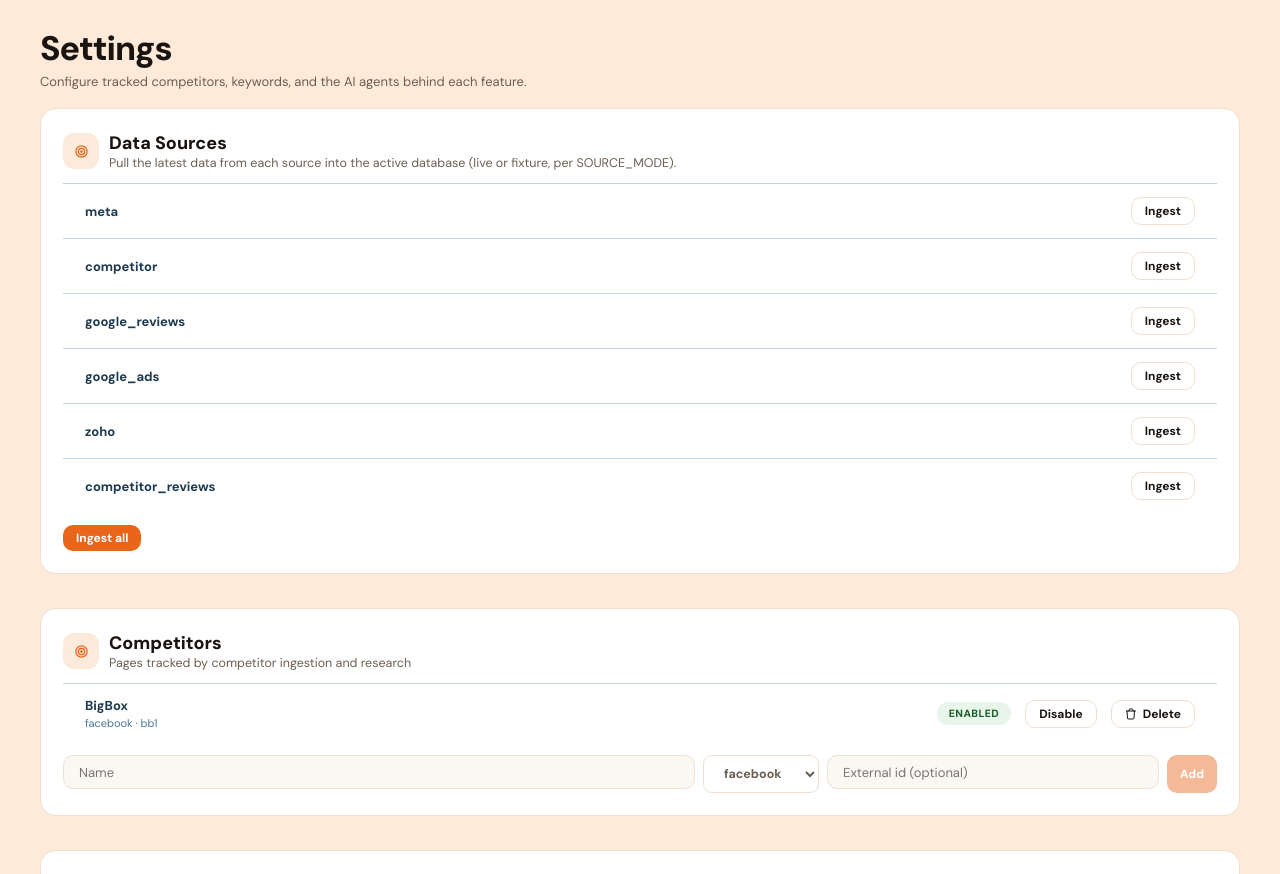
Scenario: shows skipped notice for a skip-reported source instead of counts
The width and height of the screenshot is (1280, 874).
Click the button "Ingest" in the row of "google_reviews".
click(1163, 321)  # box [1131,307,1195,335]
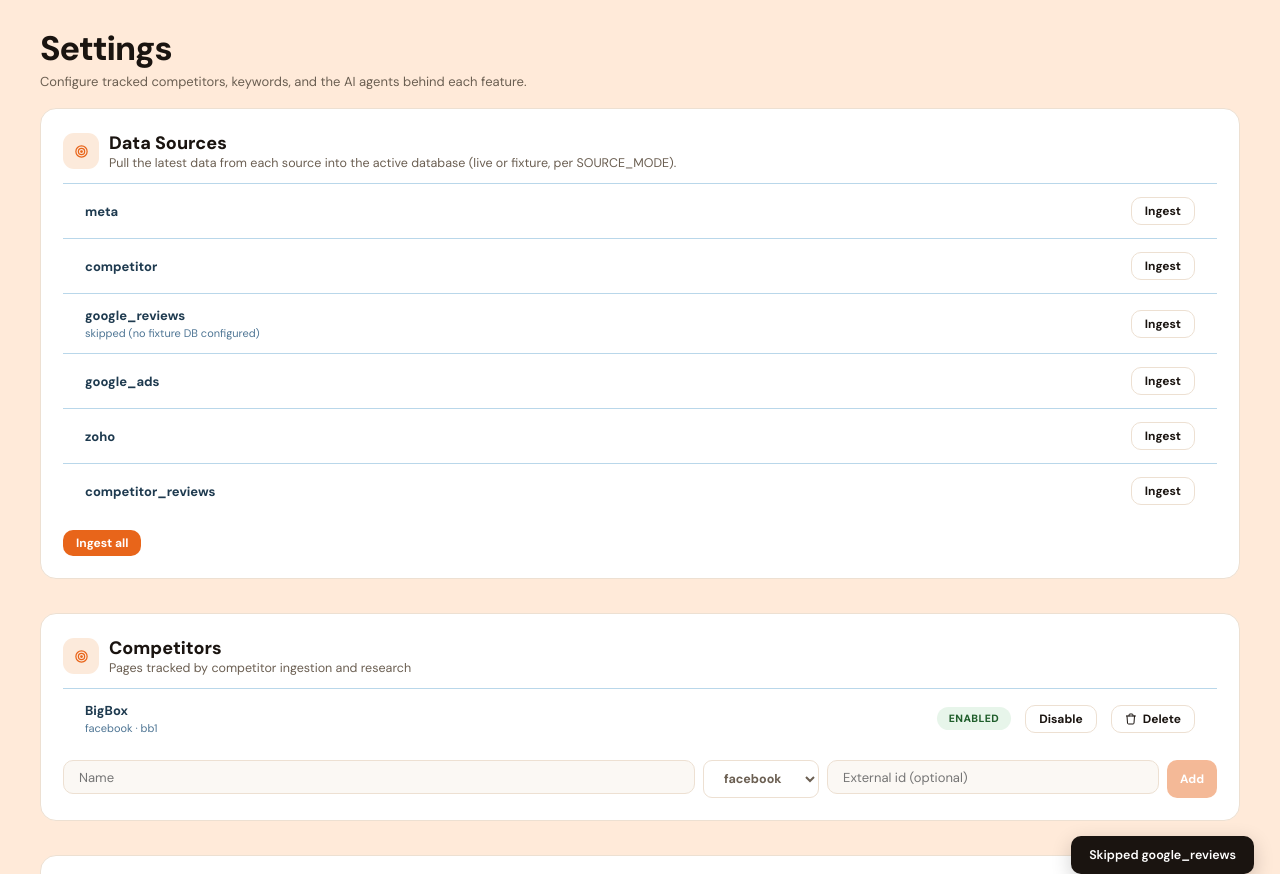
Result: the text "skipped (no fixture DB configured)" is shown at [85,326,260,340]
